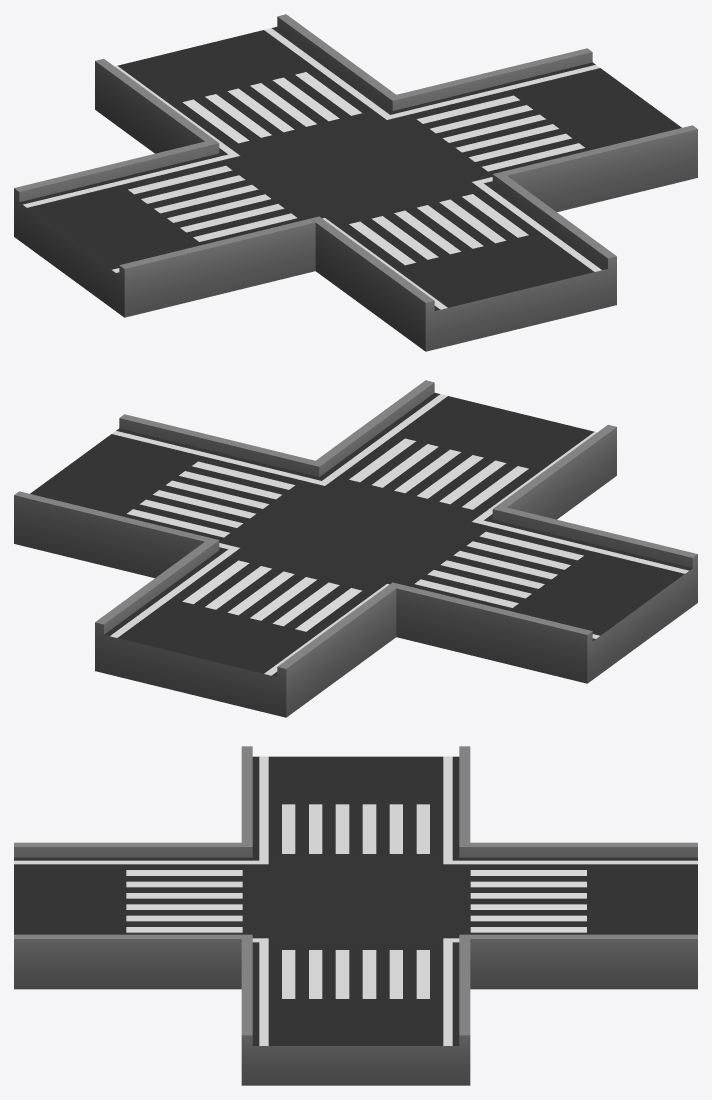
File: Cross_Intersection_Pedestrian.fbx
3 renders of one model, top to bottom at view 1: azimuth 30°, elevation 25°; view 2: azimuth 150°, elevation 25°; view 3: azimuth 270°, elevation 25°, orthographic. The views are drawn at different scales.
Visible parts, largest first — view 1: Cross_Intersection_Pedestrian; view 2: Cross_Intersection_Pedestrian; view 3: Cross_Intersection_Pedestrian.
Part boxes in pixels (x1,y1,x2,y2): Cross_Intersection_Pedestrian: [14, 14, 697, 351]; Cross_Intersection_Pedestrian: [14, 380, 697, 717]; Cross_Intersection_Pedestrian: [14, 746, 697, 1085].
Bounding box in the file's own units: 597 × 48.52 × 597.
